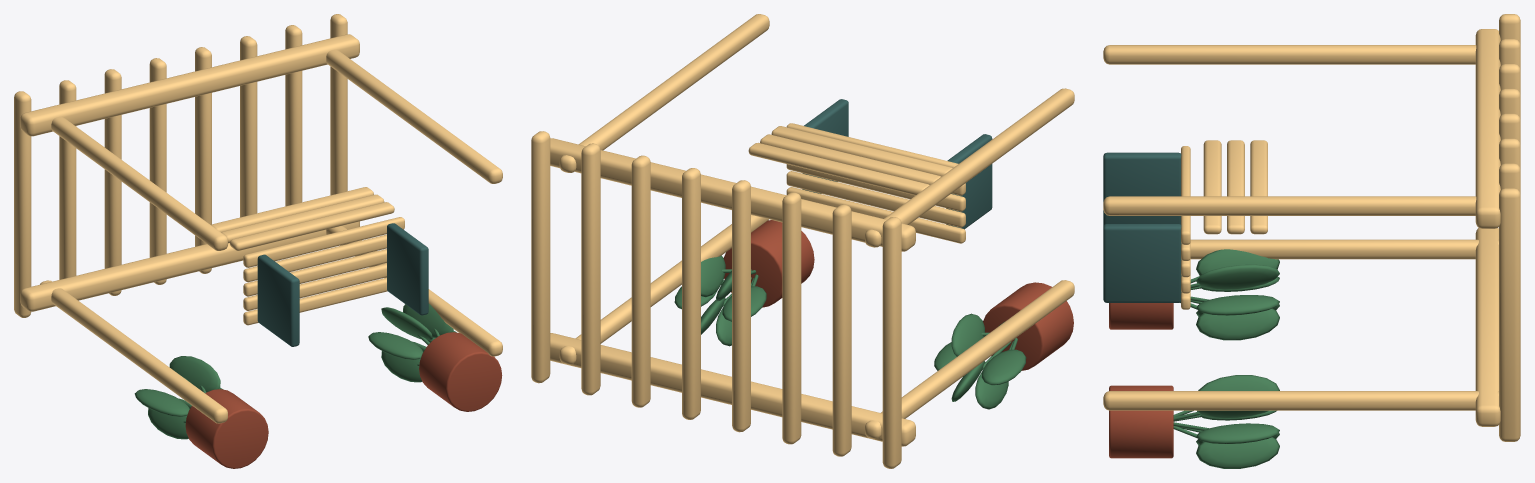
Rendered from BoulevardLandmark8.fbx.
3 renders of one model, left to right at view 1: azimuth 30°, elevation 25°; view 2: azimuth 150°, elevation 25°; view 3: azimuth 270°, elevation 25°, orthographic. The views are drawn at different scales.
Visible parts, largest first — view 1: BoulevardLandmark8; view 2: BoulevardLandmark8; view 3: BoulevardLandmark8.
Part boxes in pixels (x1=…): BoulevardLandmark8: x1=14, y1=14, x2=502, y2=468; BoulevardLandmark8: x1=531, y1=14, x2=1074, y2=468; BoulevardLandmark8: x1=1103, y1=14, x2=1520, y2=468.
Bounding box in the file's own units: 2.42 × 1.8 × 2.33.
